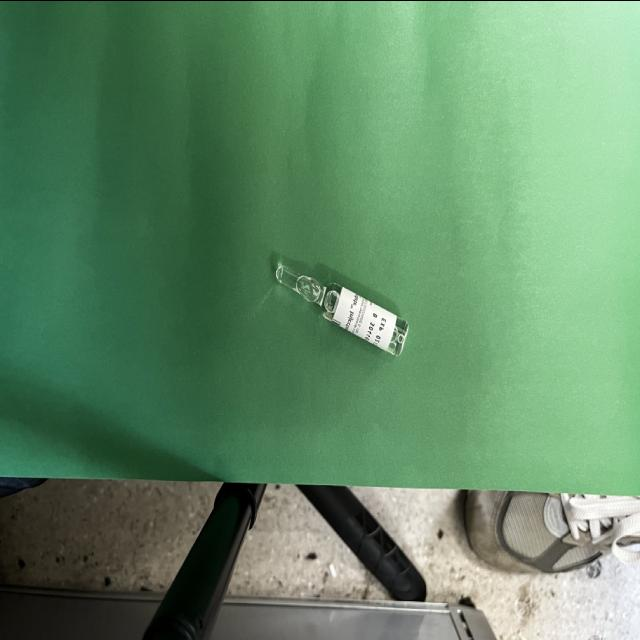Ampoules: (275, 260, 409, 355)
